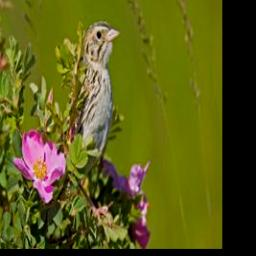Sparrow: (66, 14, 124, 186)
